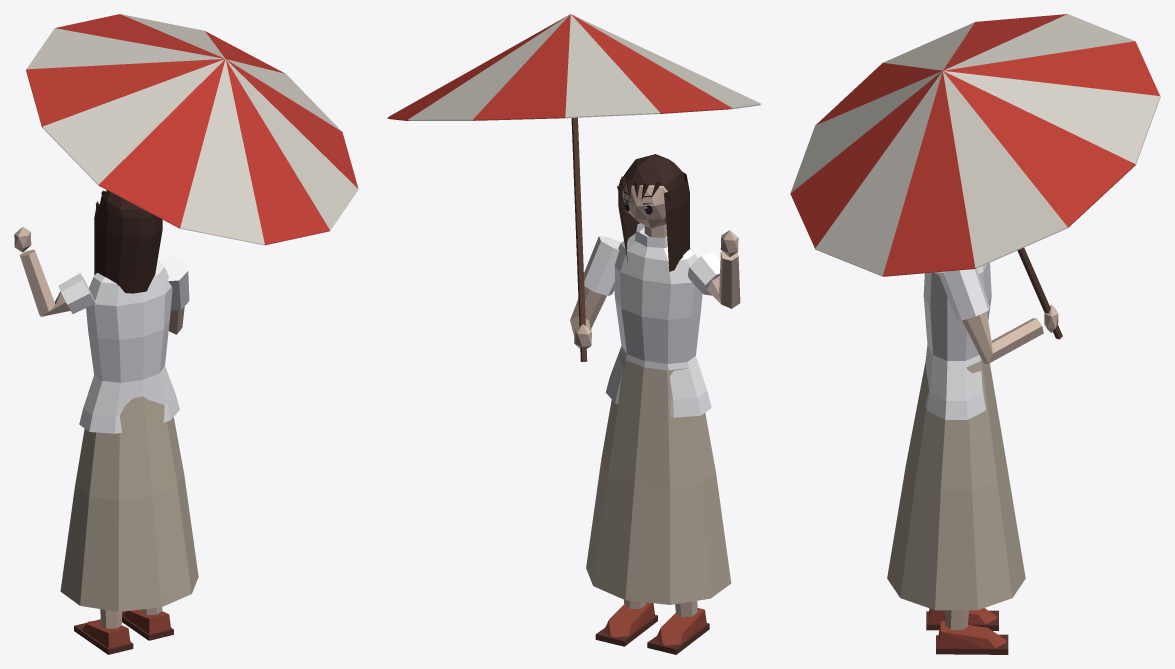
File: spectator_g.glb
3 views of the same model, side by side, from view 1: azimuth 30°, elevation 25°; view 2: azimuth 150°, elevation 25°; view 3: azimuth 270°, elevation 25° (orthographic). The views are drawn at different scales.
Visible parts, largest first — view 1: spectator_g; view 2: spectator_g; view 3: spectator_g.
Part boxes in pixels (box(x1,y1,x2,y2)): spectator_g: box(14, 14, 358, 654); spectator_g: box(387, 14, 761, 654); spectator_g: box(790, 14, 1160, 654).
Bounding box in the file's own units: 1.27 × 2.15 × 1.18.
